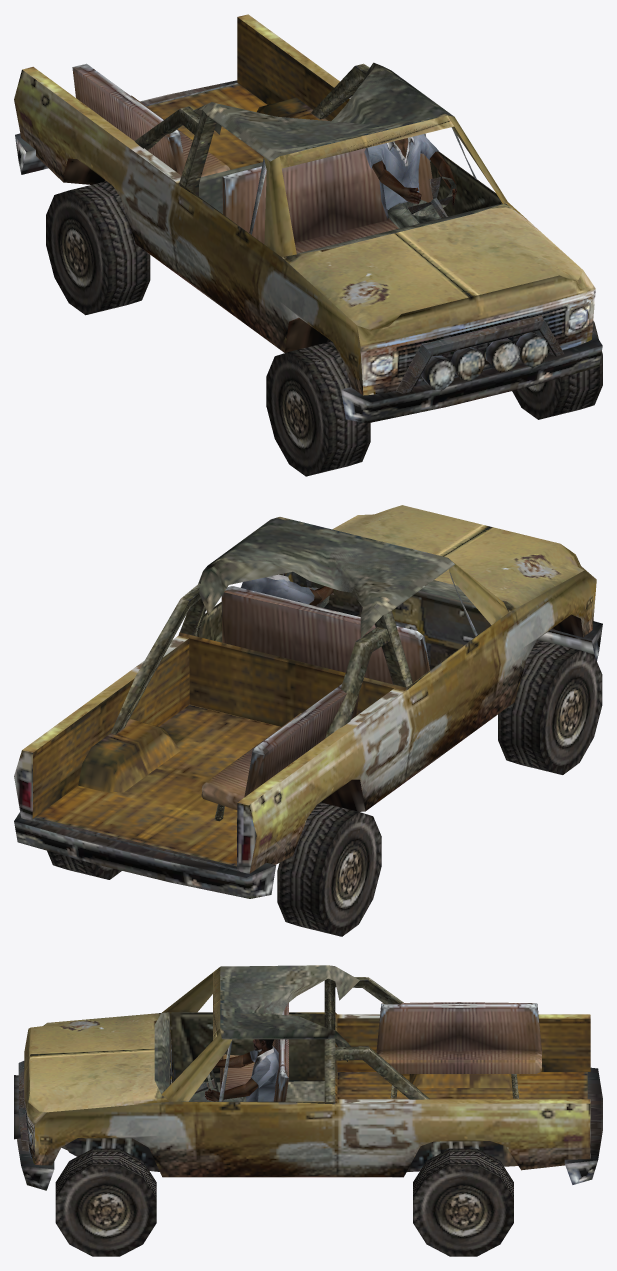
Rendered from etek3.glb.
3 views of the same model, one above another, from view 1: azimuth 30°, elevation 25°; view 2: azimuth 150°, elevation 25°; view 3: azimuth 270°, elevation 25° (orthographic). The views are drawn at different scales.
Parts seen in each view (by area): view 1: _etek3; view 2: _etek3; view 3: _etek3.
Boxes of the visible parts, x1,y1,x2,y2 form: _etek3: (14, 14, 602, 476); _etek3: (14, 505, 602, 936); _etek3: (14, 965, 602, 1256).
Size of the model in its own units: 2.67 by 2.35 by 6.11.
Materials: 4 (4 with a texture image).
